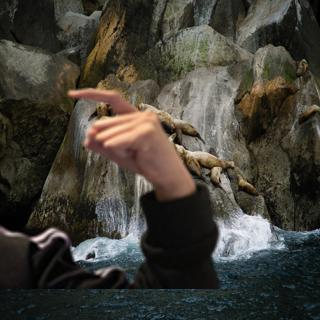WHY: (59, 80, 191, 193)
